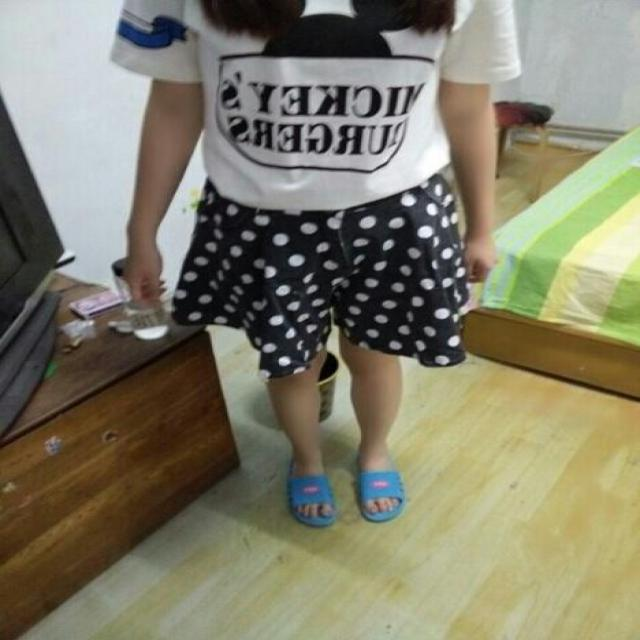short sleeve top: (109, 0, 522, 212)
shorts: (173, 168, 471, 379)
